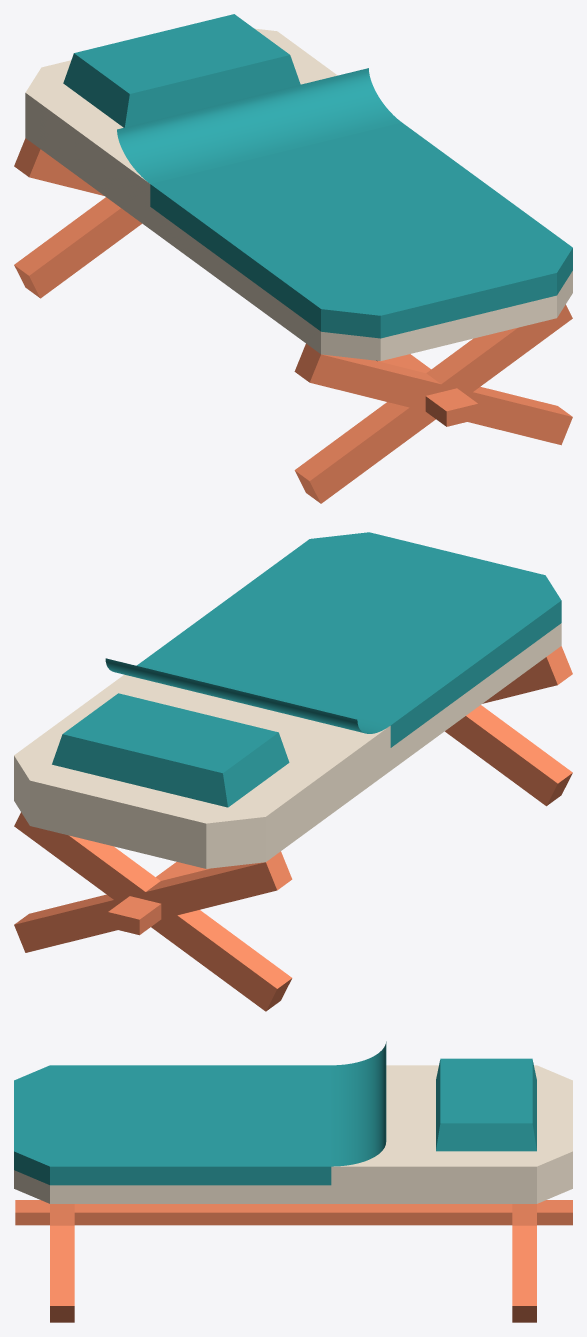
Rendered from bed.dae.
3 views of the same model, one above another, from view 1: azimuth 30°, elevation 25°; view 2: azimuth 150°, elevation 25°; view 3: azimuth 270°, elevation 25° (orthographic). The views are drawn at different scales.
Parts seen in each view (by area): view 1: bed; view 2: bed; view 3: bed.
Boxes of the visible parts, x1,y1,x2,y2 form: bed: (14,14,572,503); bed: (14,532,572,1011); bed: (14,1041,572,1322).
Bounding box in the file's own units: 0.3349 × 0.2737 × 0.7473.
